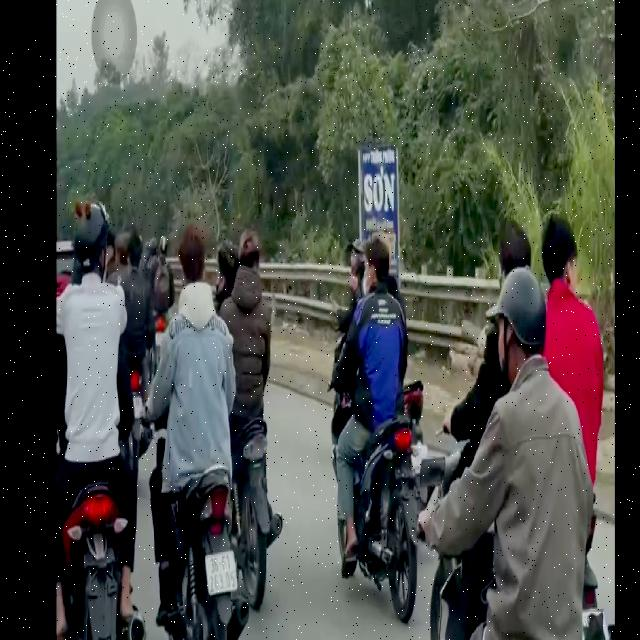helmet: (73, 197, 110, 288)
no_helmet: (540, 218, 576, 314), (180, 230, 209, 323), (238, 230, 260, 298), (219, 227, 236, 303)
